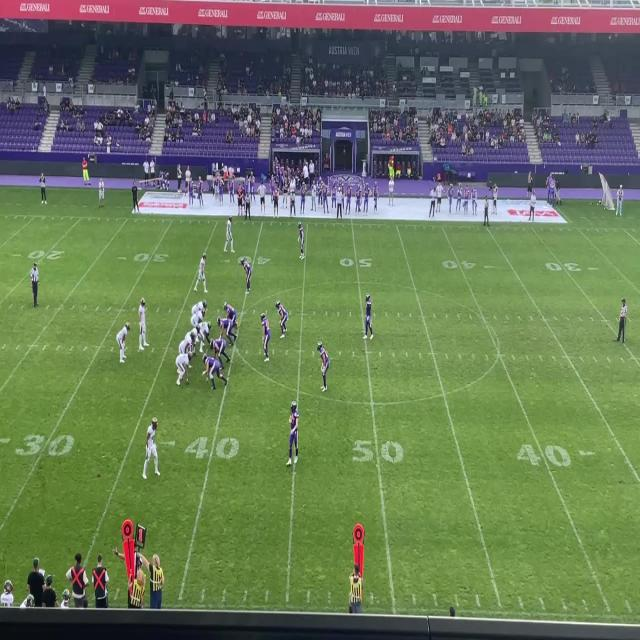3: (15, 430, 47, 459)
4: (514, 440, 544, 473), (184, 431, 209, 464)
5: (350, 434, 376, 472)
american-football-players: (143, 417, 162, 482), (202, 353, 228, 390), (289, 401, 301, 469), (173, 353, 194, 388), (362, 291, 376, 341), (316, 342, 330, 392), (193, 254, 210, 294), (208, 334, 229, 366), (116, 323, 132, 364), (138, 297, 150, 351), (195, 318, 213, 352), (276, 303, 290, 344), (224, 298, 239, 331), (217, 316, 236, 342), (261, 310, 270, 363), (240, 257, 253, 293), (222, 217, 235, 253), (296, 223, 306, 263), (177, 333, 193, 357), (190, 296, 208, 314), (188, 323, 200, 349), (190, 310, 208, 327)
